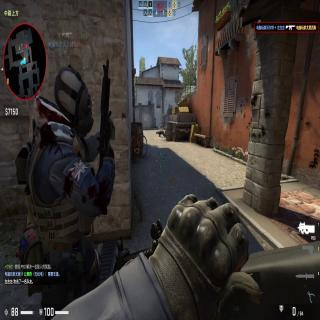CT-Head: (54, 64, 94, 138)
